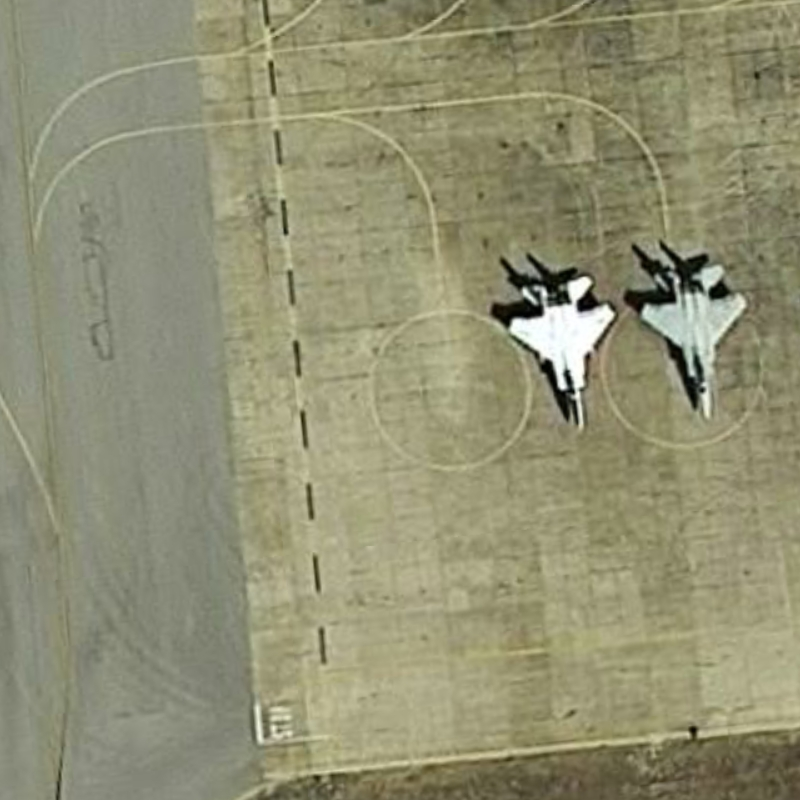A13: (636, 255, 756, 427), (501, 268, 620, 433)
